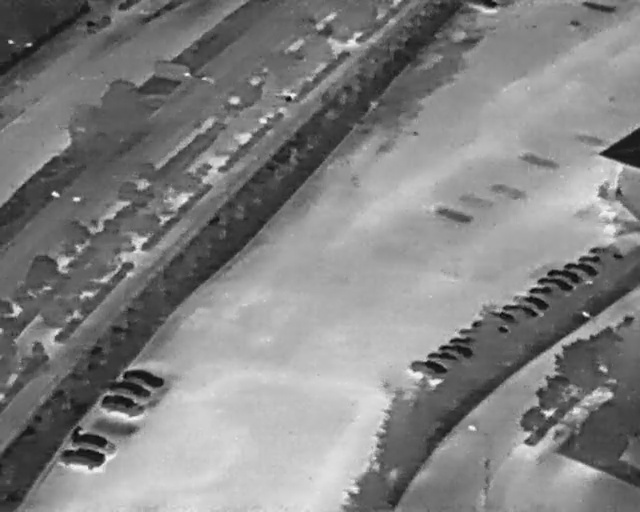Car: (67, 423, 122, 459), (55, 443, 107, 475), (98, 390, 148, 420), (119, 362, 168, 392), (105, 375, 154, 405), (407, 353, 452, 382), (534, 270, 577, 297), (561, 254, 602, 282), (588, 239, 627, 266), (512, 287, 552, 313), (469, 314, 512, 337), (545, 262, 583, 286), (437, 340, 480, 360), (481, 303, 518, 326), (500, 299, 540, 319), (424, 347, 462, 365), (579, 250, 609, 271), (455, 322, 481, 341), (526, 283, 559, 297), (447, 332, 477, 346)
